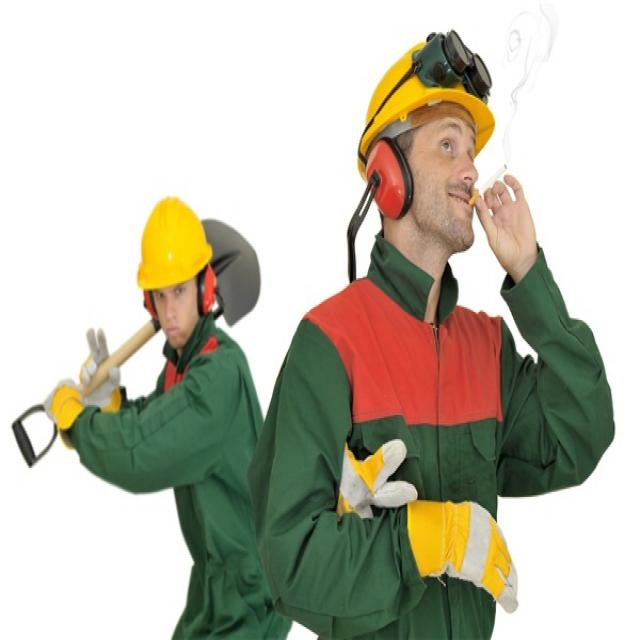smoking: (468, 164, 508, 204)
